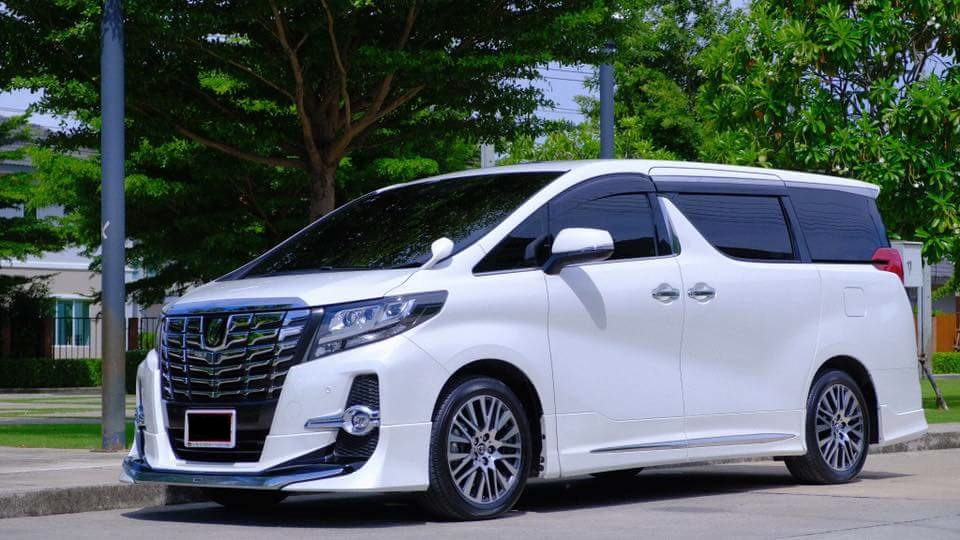van: (116, 155, 932, 522)
